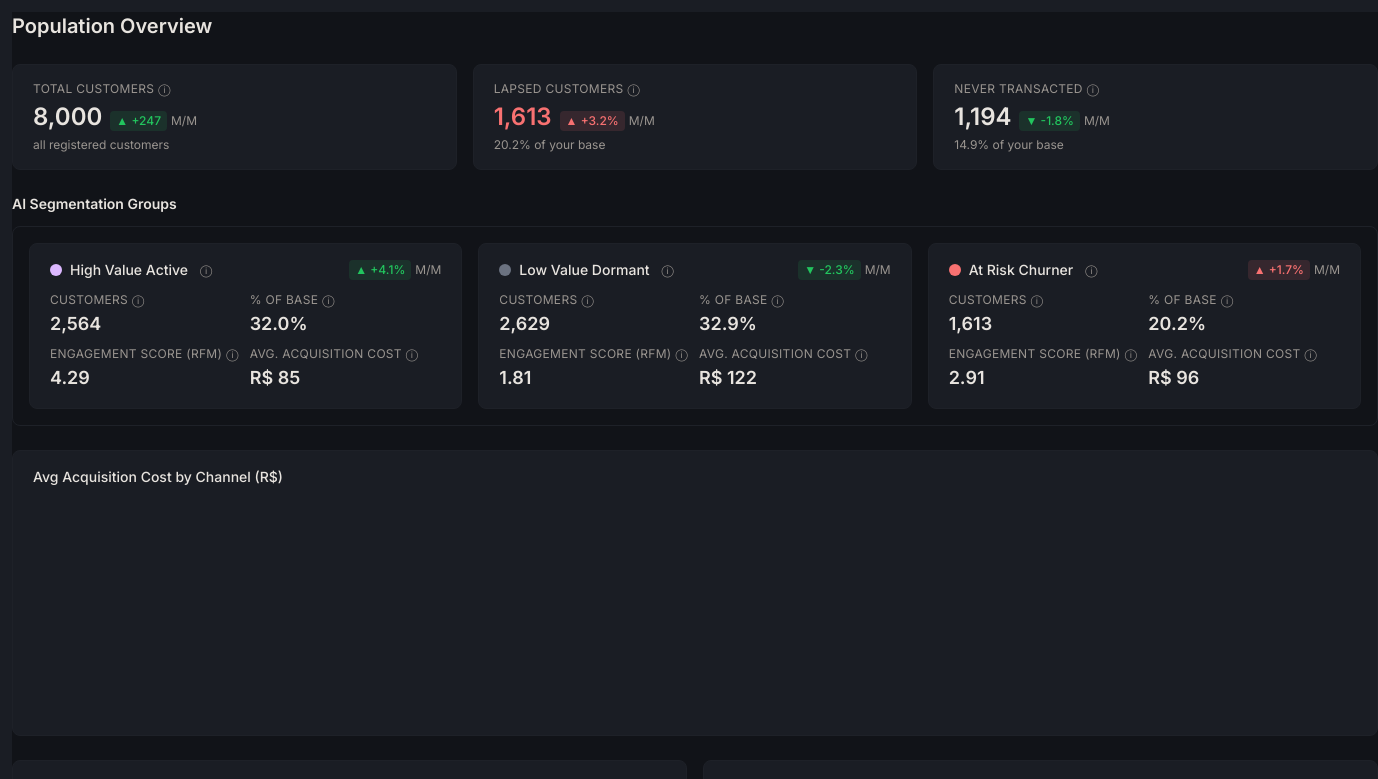
Scenario: DashboardPage InfoTooltip › shows tooltip text when hovering the ⓘ button on a KPI card
Expected: the element with test id "kpi-lapsed" is shown, [473, 64, 917, 170]
Hover over the button with test id "info-tooltip-trigger" next to "Lapsed Customers" at (634, 89), box [628, 83, 640, 95]
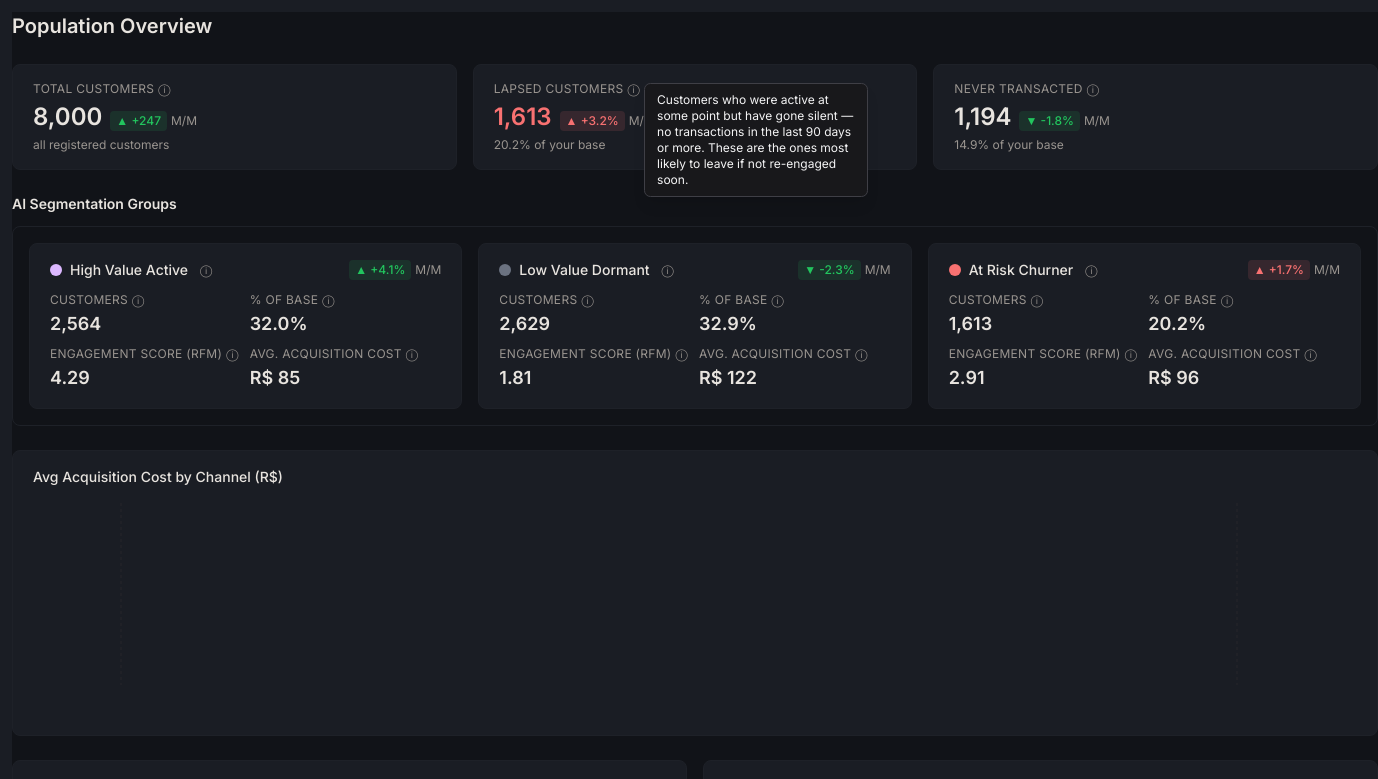
Result: the tooltip is shown at [644, 83, 868, 197]
Move the pointer off the button with test id "info-tooltip-trigger" next to "Lapsed Customers", box [628, 83, 640, 95]
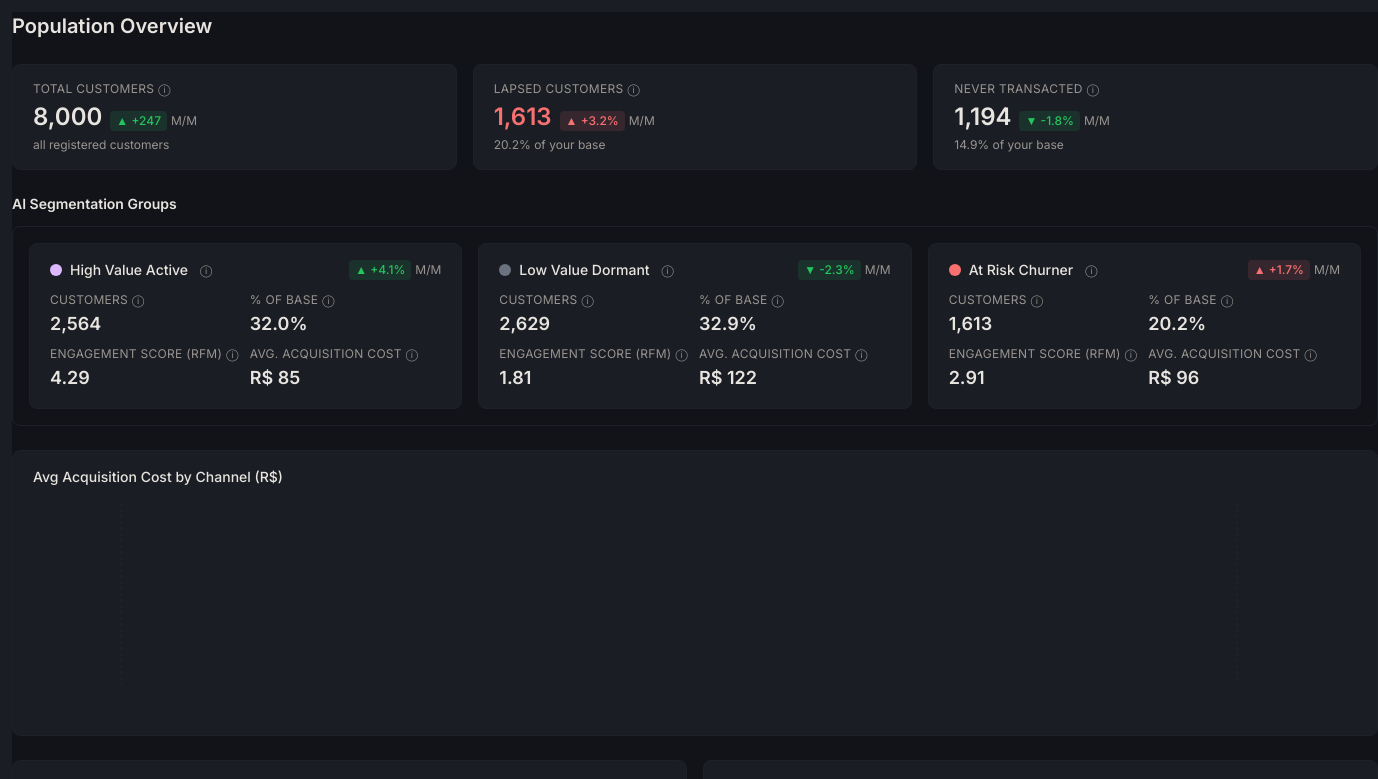
Result: the tooltip is gone
